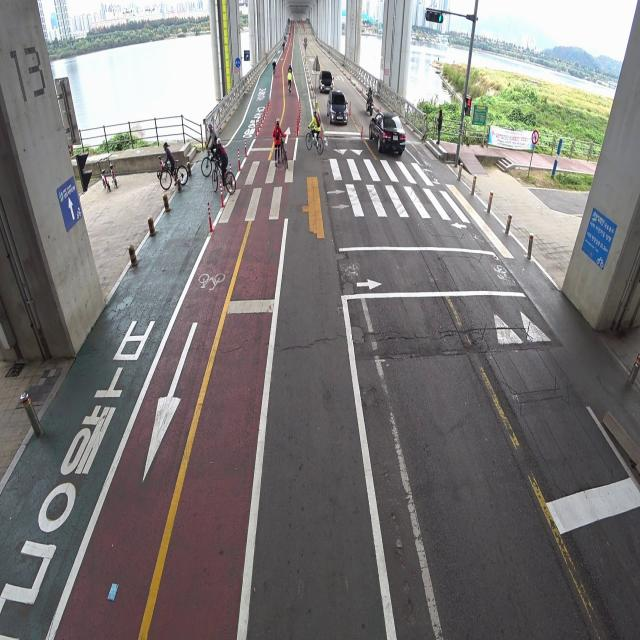Car: (370, 104, 407, 159), (324, 88, 350, 130), (316, 65, 336, 93)
Motorcycle: (364, 83, 374, 117)
